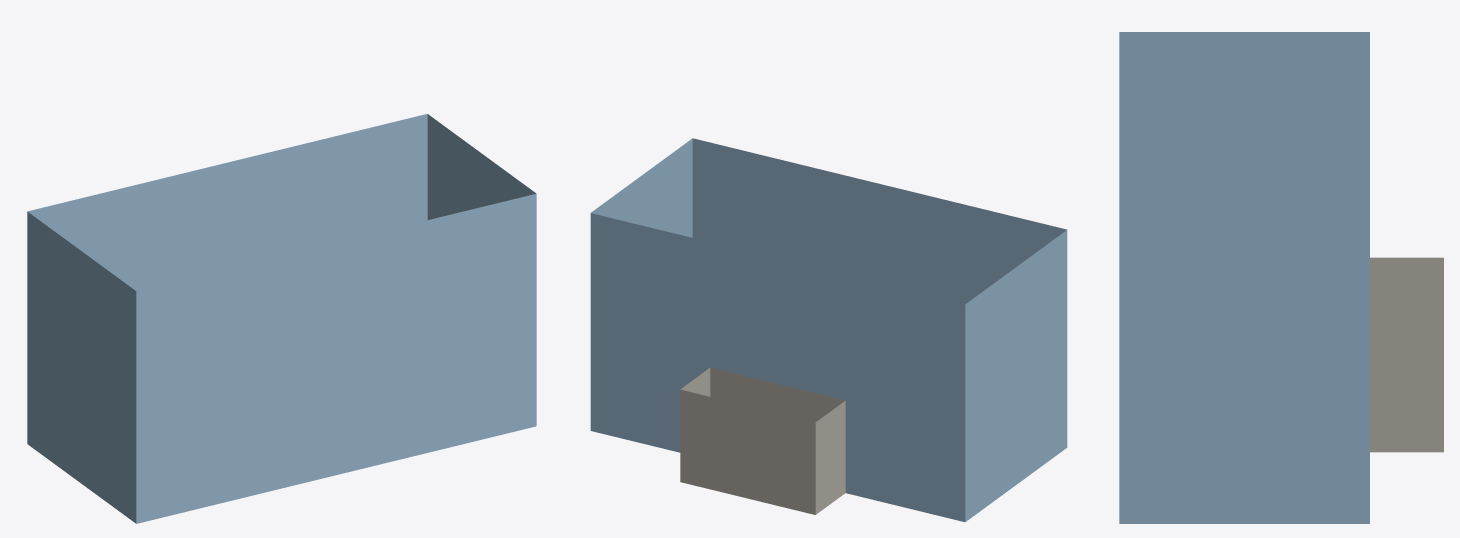
The model's file is Svc_police.fbx.
3 views of the same model, side by side, from view 1: azimuth 30°, elevation 25°; view 2: azimuth 150°, elevation 25°; view 3: azimuth 270°, elevation 25° (orthographic). The views are drawn at different scales.
Visible parts, largest first — view 1: Svc_police_LOD0; view 2: Svc_police_LOD0; view 3: Svc_police_LOD0.
Part boxes in pixels (x1,y1,x2,y2): Svc_police_LOD0: (27,114,536,523); Svc_police_LOD0: (590,138,1067,522); Svc_police_LOD0: (1119,32,1443,523).
Size of what is drawn, in the model's own units: 1500 by 1340 by 915.
1 material, 1 textured.
